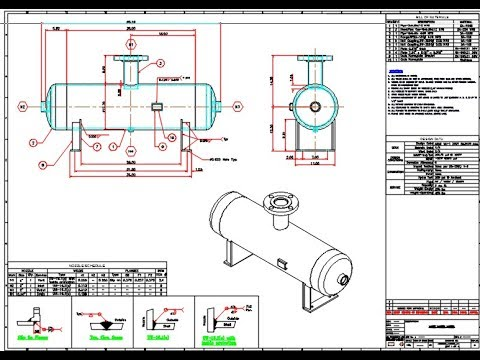nozzle: (107, 41, 162, 87), (290, 47, 343, 93), (252, 182, 305, 228)
